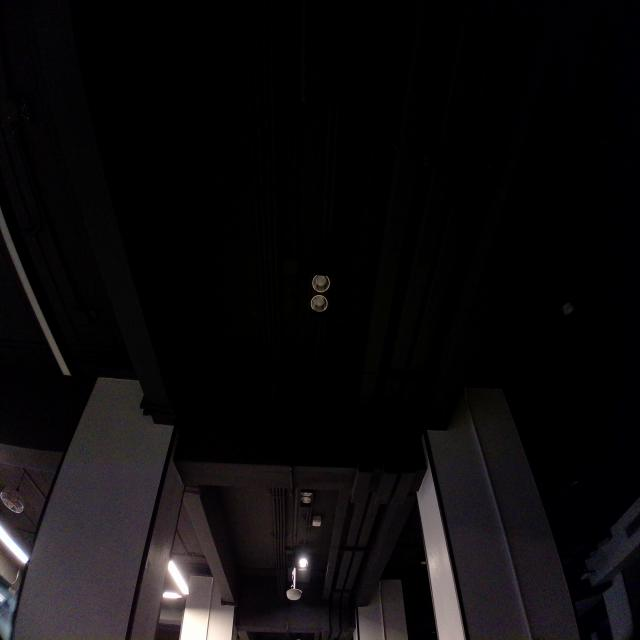lamp1_off: (301, 256, 342, 330)
